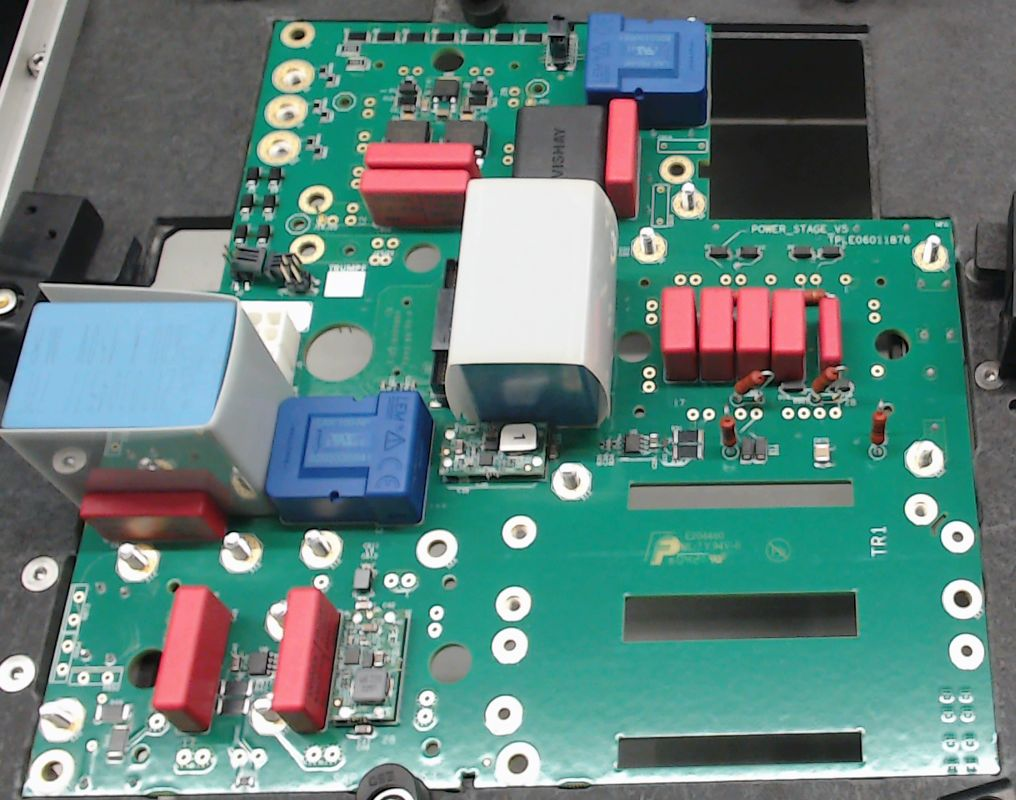comp1: (264, 390, 434, 523), (583, 13, 707, 128)
comp2: (153, 585, 230, 734), (270, 588, 339, 733), (76, 490, 230, 545), (361, 167, 467, 231), (605, 97, 639, 216), (732, 285, 770, 390), (660, 285, 698, 380), (698, 285, 734, 383), (771, 287, 806, 381), (364, 141, 477, 169), (815, 295, 843, 369)
comp3: (511, 104, 610, 181)
comp4: (4, 282, 300, 522), (446, 180, 620, 430)
